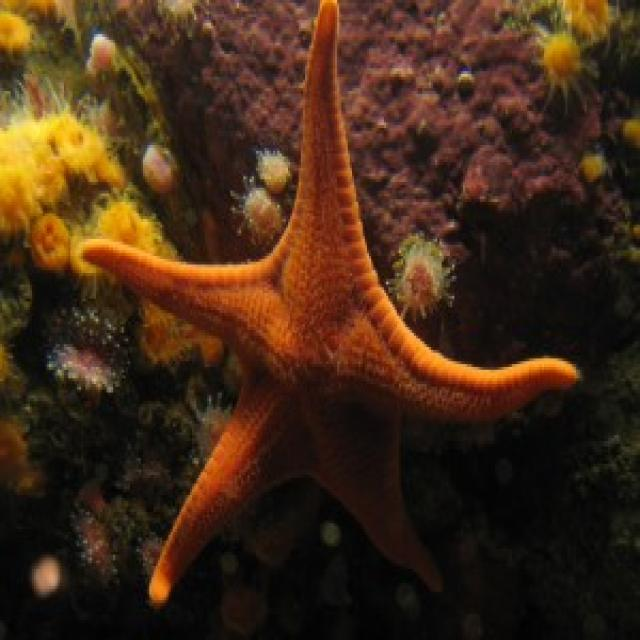Starfish: (36, 1, 592, 610)
